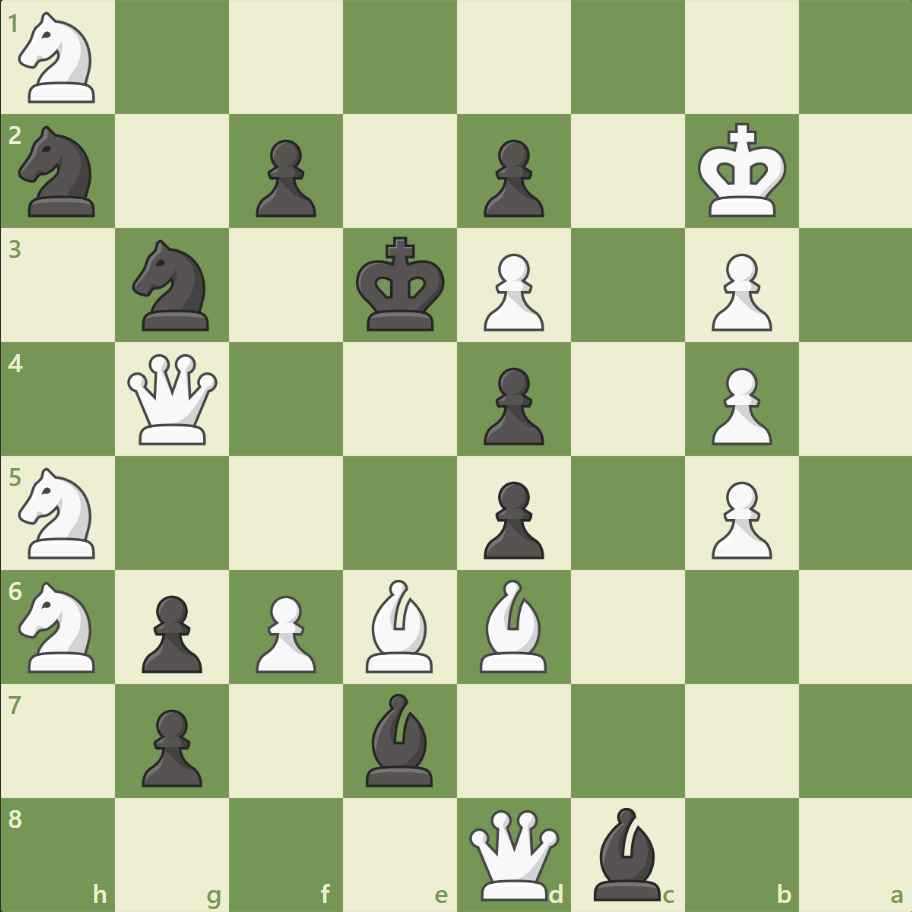B: (471, 574, 555, 676), (358, 574, 442, 676)
K: (692, 117, 792, 225)
N: (11, 461, 108, 564), (11, 7, 108, 110), (11, 575, 108, 677)
P: (247, 586, 322, 677), (701, 473, 776, 564), (701, 359, 776, 450), (701, 246, 776, 337), (474, 246, 549, 337)
Q: (124, 349, 223, 449), (464, 804, 563, 903)
b: (585, 801, 669, 904), (358, 687, 442, 790)
k: (351, 231, 451, 339)
n: (124, 234, 222, 337), (11, 121, 108, 223)
p: (133, 700, 208, 791), (133, 586, 208, 677), (474, 473, 549, 564), (474, 359, 549, 450), (474, 132, 549, 223), (247, 132, 322, 223)
